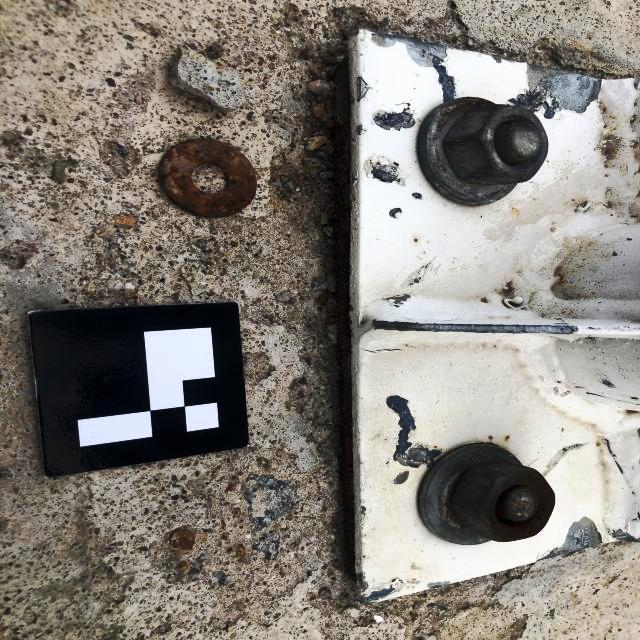Corrosion: (333, 56, 356, 576), (159, 138, 257, 218), (473, 469, 556, 542), (443, 97, 496, 114)
